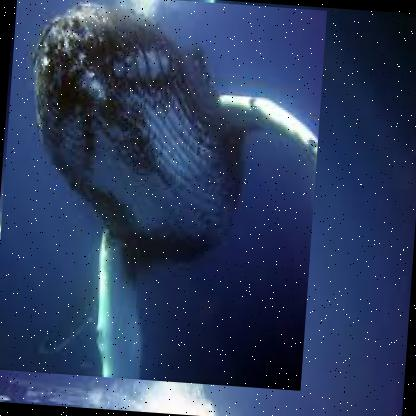blue_whale: (0, 0, 328, 392)
